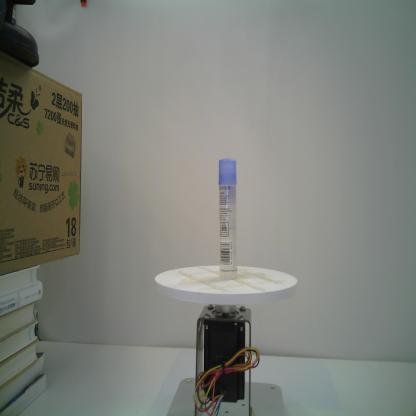Stationery: (217, 157, 240, 282)
